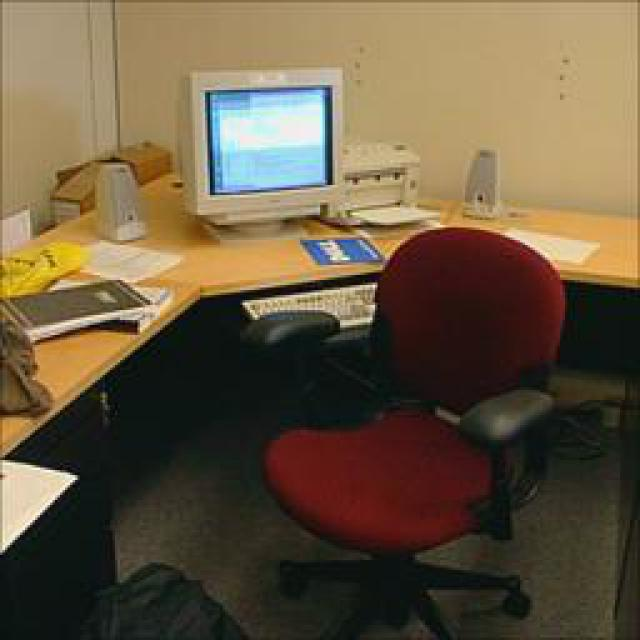bag occluded: (75, 562, 248, 635)
book case: (95, 285, 170, 332)
boxes: (48, 138, 172, 225)
chair -occluded-: (240, 225, 562, 635)
cloth: (0, 238, 90, 292), (0, 320, 48, 415)
desk calendar: (0, 168, 635, 450)
file organizer: (0, 382, 115, 637)
keyboard crop: (240, 282, 372, 325)
monitor crop: (175, 62, 340, 235)
mouse: (300, 235, 380, 262)
notebook: (0, 275, 148, 340)
paper cup with straws: (75, 238, 175, 280), (495, 225, 598, 265)
printer: (322, 138, 432, 222)
speaker: (92, 162, 142, 238), (460, 145, 495, 212)
